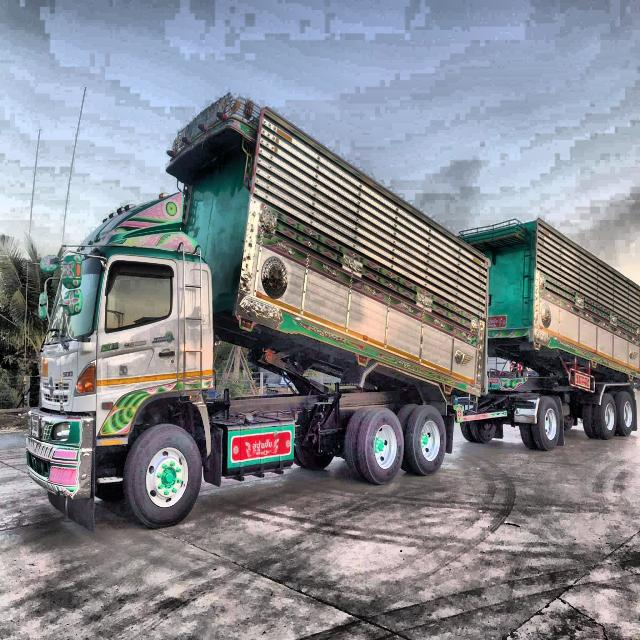trailer: (27, 87, 640, 543)
